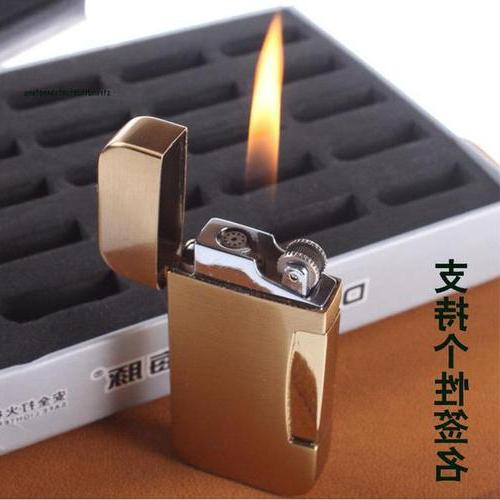fire: (229, 4, 311, 236)
